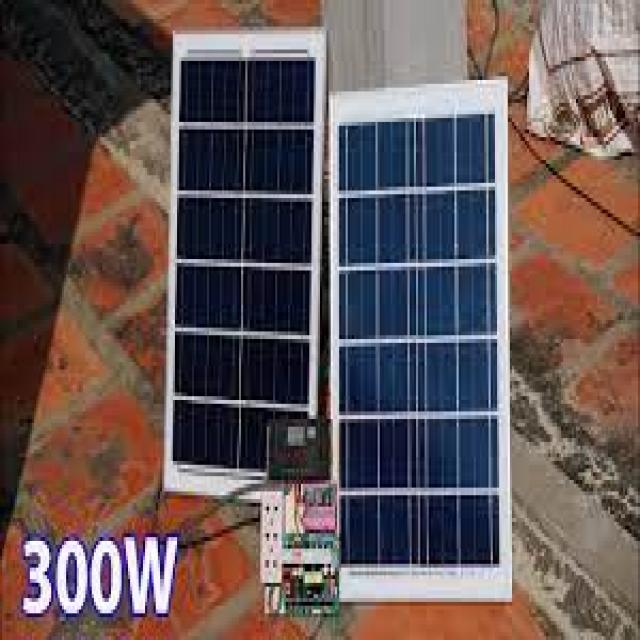no faulty: (346, 116, 500, 576), (181, 59, 306, 462)
